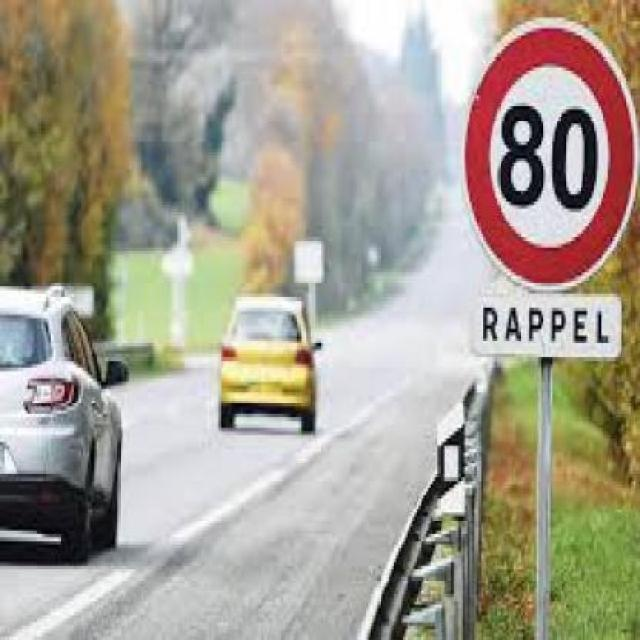forb_speed_over_80: (462, 18, 638, 298)
